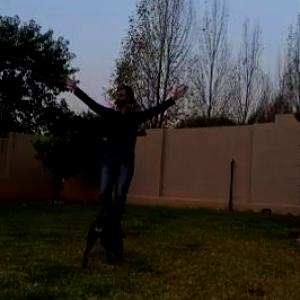takeoff: (27, 41, 188, 240)
